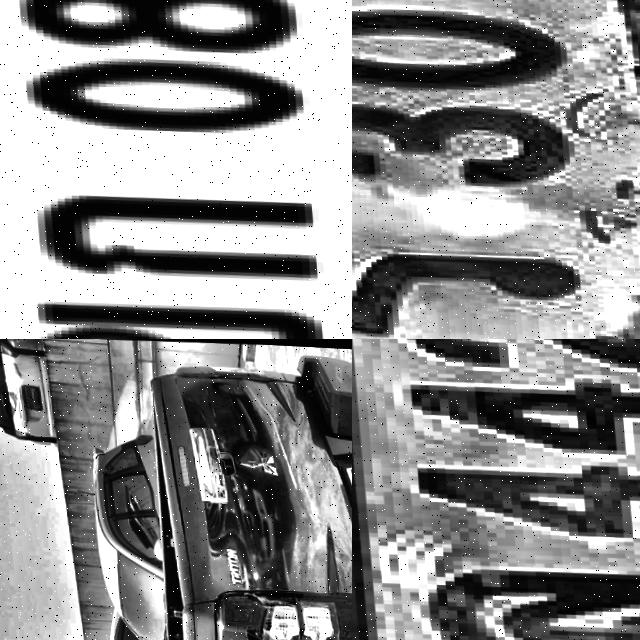license-plate: (0, 0, 352, 339), (352, 0, 640, 339), (352, 339, 640, 640), (337, 452, 352, 516), (18, 383, 39, 409)
